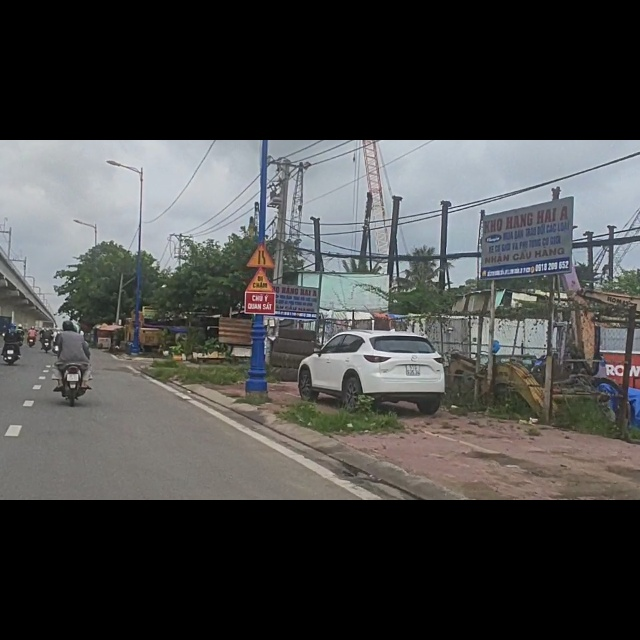bien_nguy_hiem: (246, 185, 276, 229), (246, 229, 279, 269)
